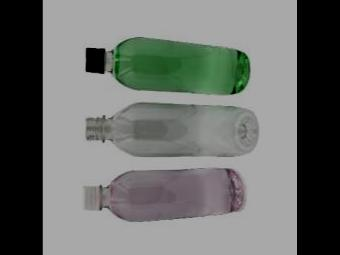bottle: (86, 27, 251, 97), (86, 100, 258, 158), (84, 162, 244, 224)
